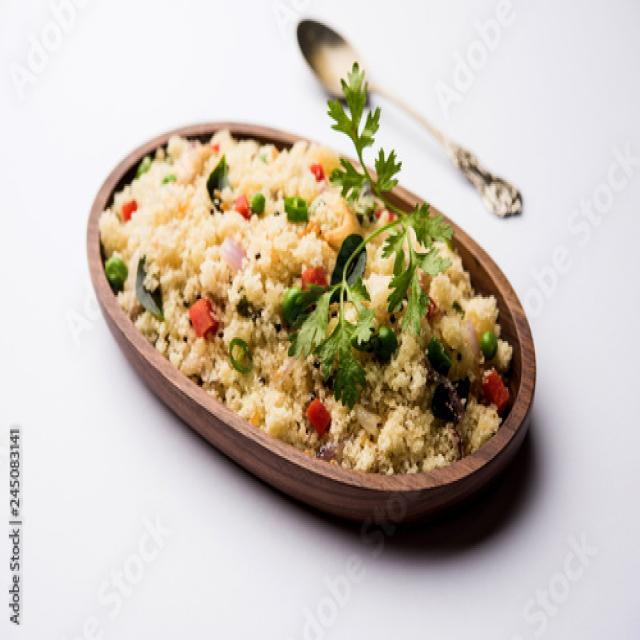UPMA: (100, 130, 512, 471)
